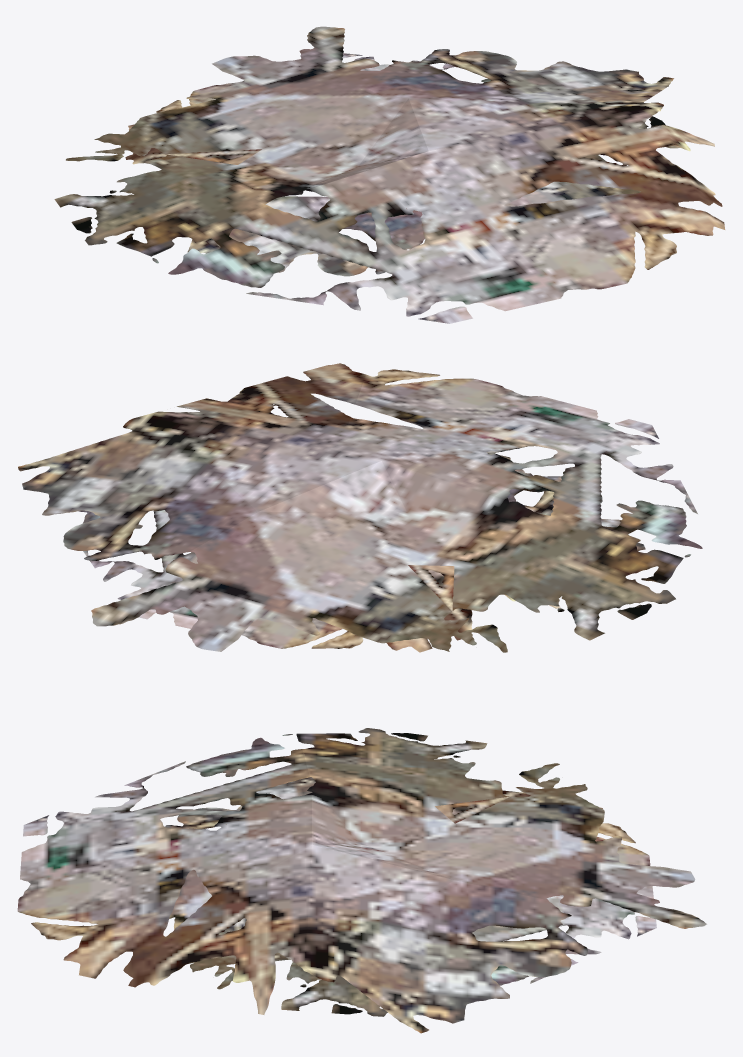
File: trash_swept_03.fbx
3 renders of one model, top to bottom at view 1: azimuth 30°, elevation 25°; view 2: azimuth 150°, elevation 25°; view 3: azimuth 270°, elevation 25°, orthographic. The views are drawn at different scales.
Parts seen in each view (by area): view 1: mesh_0, mesh_1; view 2: mesh_0, mesh_1; view 3: mesh_0, mesh_1.
Part boxes in pixels (x1=…): mesh_0: x1=54, y1=26, x2=725, y2=323; mesh_1: x1=125, y1=53, x2=679, y2=276; mesh_0: x1=18, y1=363, x2=702, y2=652; mesh_1: x1=78, y1=446, x2=645, y2=652; mesh_0: x1=17, y1=728, x2=706, y2=1033; mesh_1: x1=165, y1=777, x2=656, y2=1016.
Bounding box in the file's own units: 176 × 11.65 × 166.
Materials: 1 (1 with a texture image).
